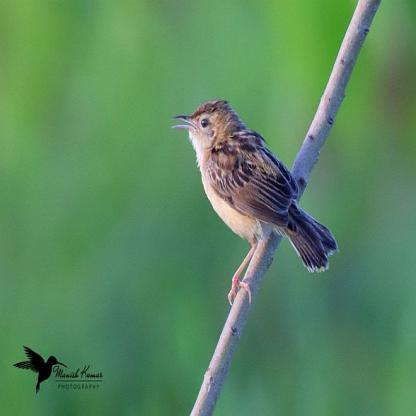Burung: (170, 100, 337, 304)
